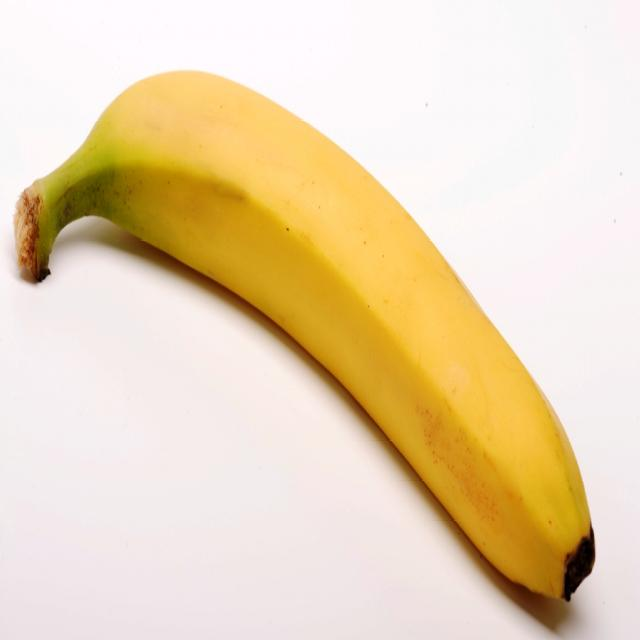Banana: (9, 60, 598, 608)
